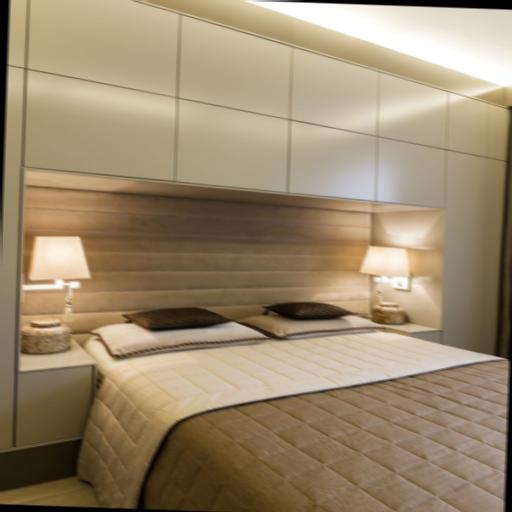bed: (68, 291, 510, 512)
